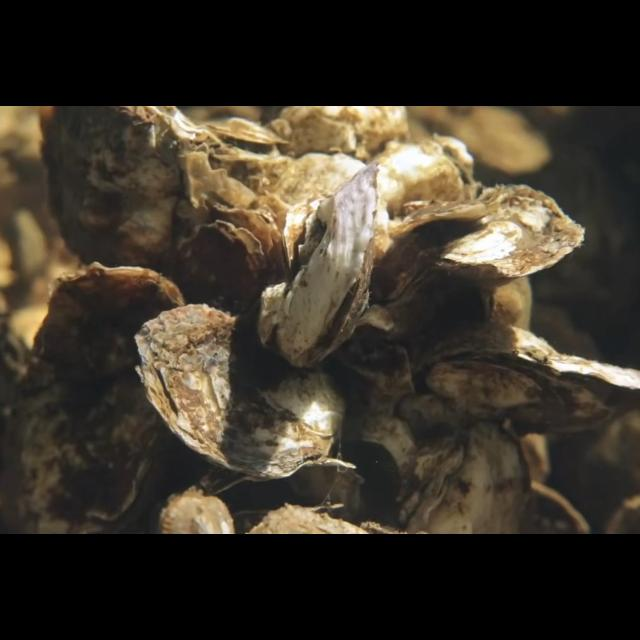Oyster-Closed: (22, 260, 188, 534), (132, 303, 356, 482), (42, 106, 222, 282), (256, 160, 380, 370), (378, 185, 586, 308), (390, 420, 532, 534), (172, 220, 266, 322)
Oyster-Open: (409, 324, 640, 439), (206, 458, 354, 518), (202, 116, 286, 166)
